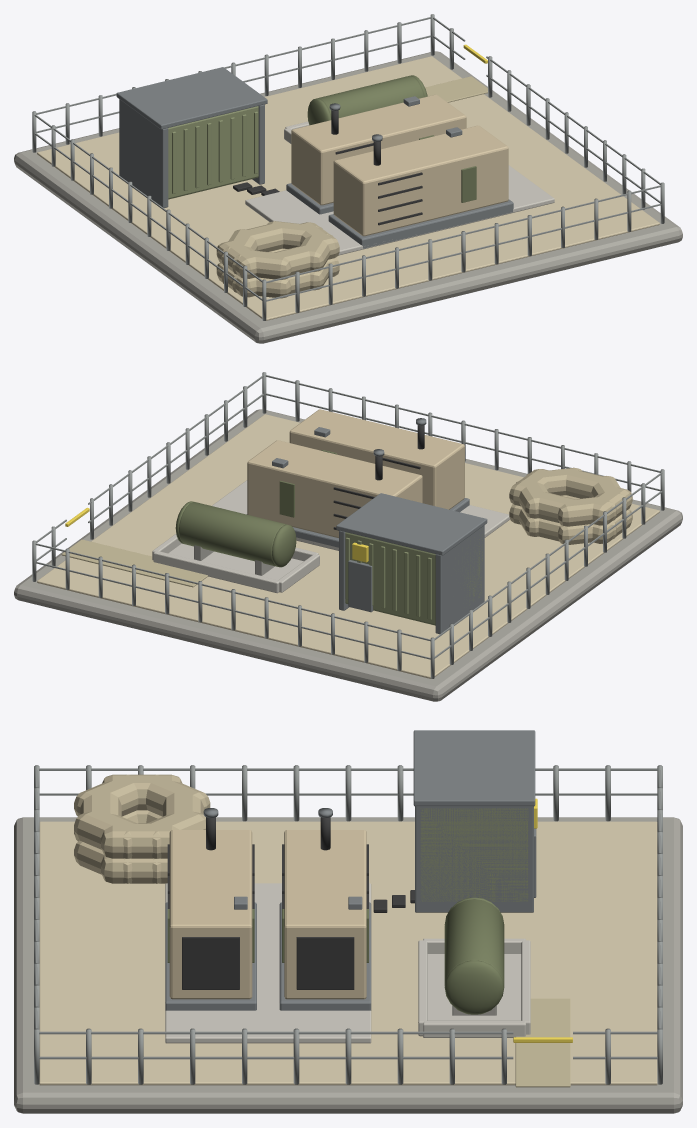
The model's file is power_2.glb.
The picture shows the model from 3 angles, top to bottom: view 1: azimuth 30°, elevation 25°; view 2: azimuth 150°, elevation 25°; view 3: azimuth 270°, elevation 25°; orthographic projection. The views are drawn at different scales.
Parts seen in each view (by area): view 1: Cube.001, Cube, Cube.005, Cube.019, Cube.043, Cube.032, Cube.033, Cube.003, Cube.004, Cylinder.004, Cube.081, Cube.002 (+15 smaller); view 2: Cube.001, Cube, Cube.019, Cube.005, Cube.043, Cylinder.004, Cube.032, Cube.033, Cube.002, Cube.047, Cube.003, Cube.046 (+20 smaller); view 3: Cube.001, Cube, Cube.034, Cube.005, Cube.019, Cube.003, Cube.043, Cube.032, Cube.002, Cylinder.004, Cube.030, Cube.016 (+22 smaller).
Boxes of the visible parts, x1,y1,x2,y2 form: Cube.001: (37,56,659,320); Cube: (14,51,682,343); Cube.005: (333,125,508,236); Cube.019: (291,94,466,205); Cube.043: (116,67,267,129); Cube.032: (168,106,258,199); Cube.033: (119,99,168,207); Cube.003: (245,165,554,255); Cube.004: (328,199,513,248); Cylinder.004: (316,76,423,118); Cube.081: (232,249,291,279); Cube.002: (425,76,487,102); Cube.001: (37,414,659,678); Cube: (14,409,682,701); Cube.019: (247,440,422,537); Cube.005: (289,409,464,509); Cube.043: (336,493,487,555); Cylinder.004: (179,502,286,566); Cube.032: (345,532,482,625); Cube.033: (435,525,484,634); Cube.002: (61,539,207,587); Cube.047: (153,551,279,593); Cube.003: (212,480,510,550); Cube.046: (168,543,303,580); Cube.001: (39,821,657,1085); Cube: (14,817,682,1113); Cube.034: (415,806,533,912); Cube.005: (169,830,252,999); Cube.019: (284,830,366,999); Cube.003: (165,883,371,1043); Cube.043: (413,730,535,806); Cube.032: (420,808,528,901); Cube.002: (515,998,570,1087); Cylinder.004: (444,899,504,986); Cube.030: (296,937,354,989); Cube.016: (182,937,239,989).
Size of the model in its own units: 2.92 by 0.725 by 2.92.
